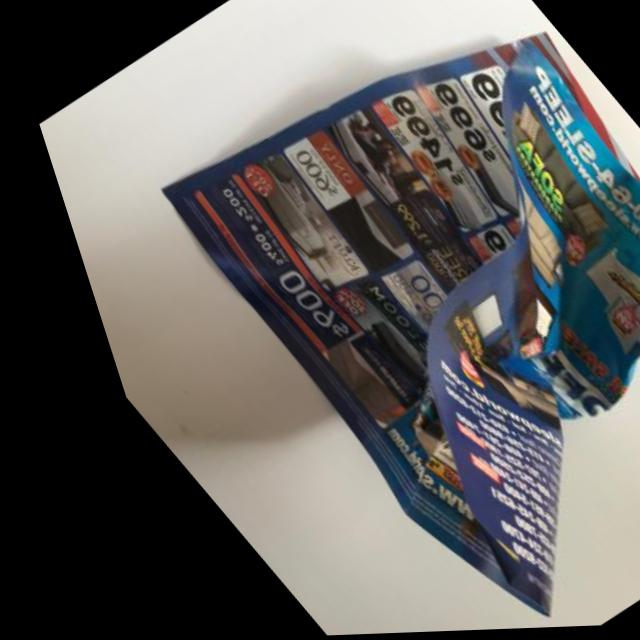paper: (69, 0, 640, 638)
